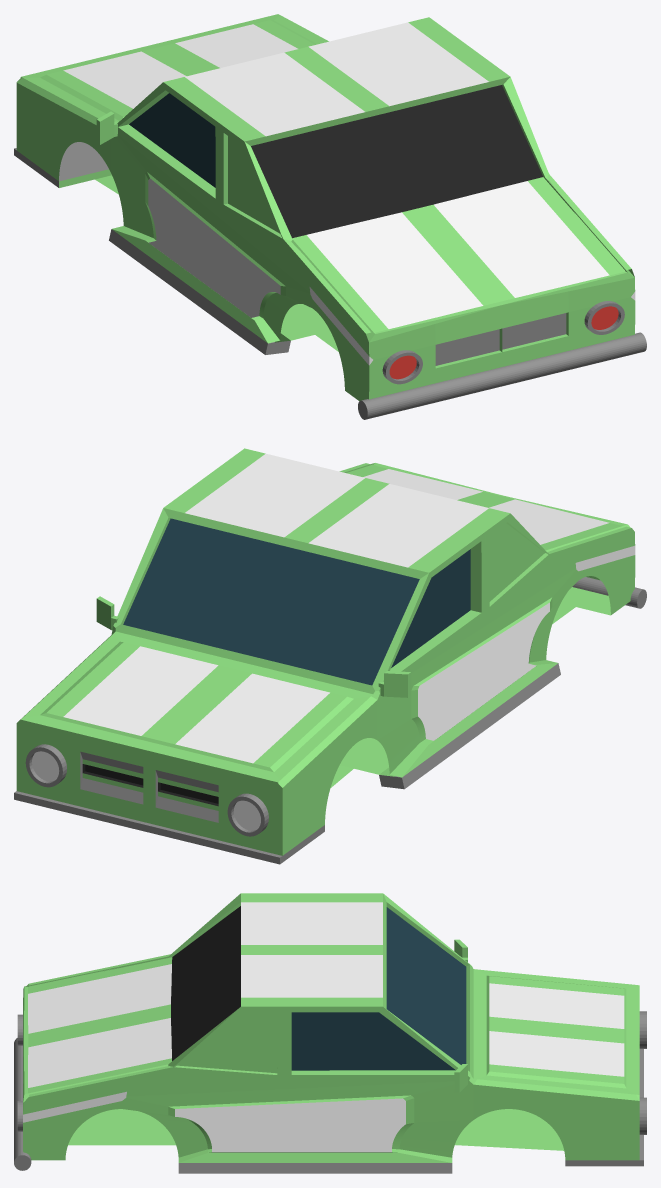
The model's file is Speed Car.fbx.
3 views of the same model, one above another, from view 1: azimuth 30°, elevation 25°; view 2: azimuth 150°, elevation 25°; view 3: azimuth 270°, elevation 25° (orthographic). The views are drawn at different scales.
Visible parts, largest first — view 1: Cube, Cube.001, Cylinder.004; view 2: Cube, Cylinder.002, Cube.001; view 3: Cube, Cube.001, Cylinder.002.
Part boxes in pixels (box(x1,y1,x2,y2)): Cube: box(14, 14, 635, 400); Cube.001: box(358, 332, 646, 419); Cylinder.004: box(382, 301, 624, 384); Cube: box(14, 448, 635, 864); Cylinder.002: box(25, 744, 268, 836); Cube.001: box(572, 577, 646, 608); Cube: box(23, 893, 643, 1173); Cube.001: box(14, 1038, 31, 1170); Cylinder.002: box(639, 1011, 646, 1134).
Size of the model in its own units: 143 by 289 by 82.21.
